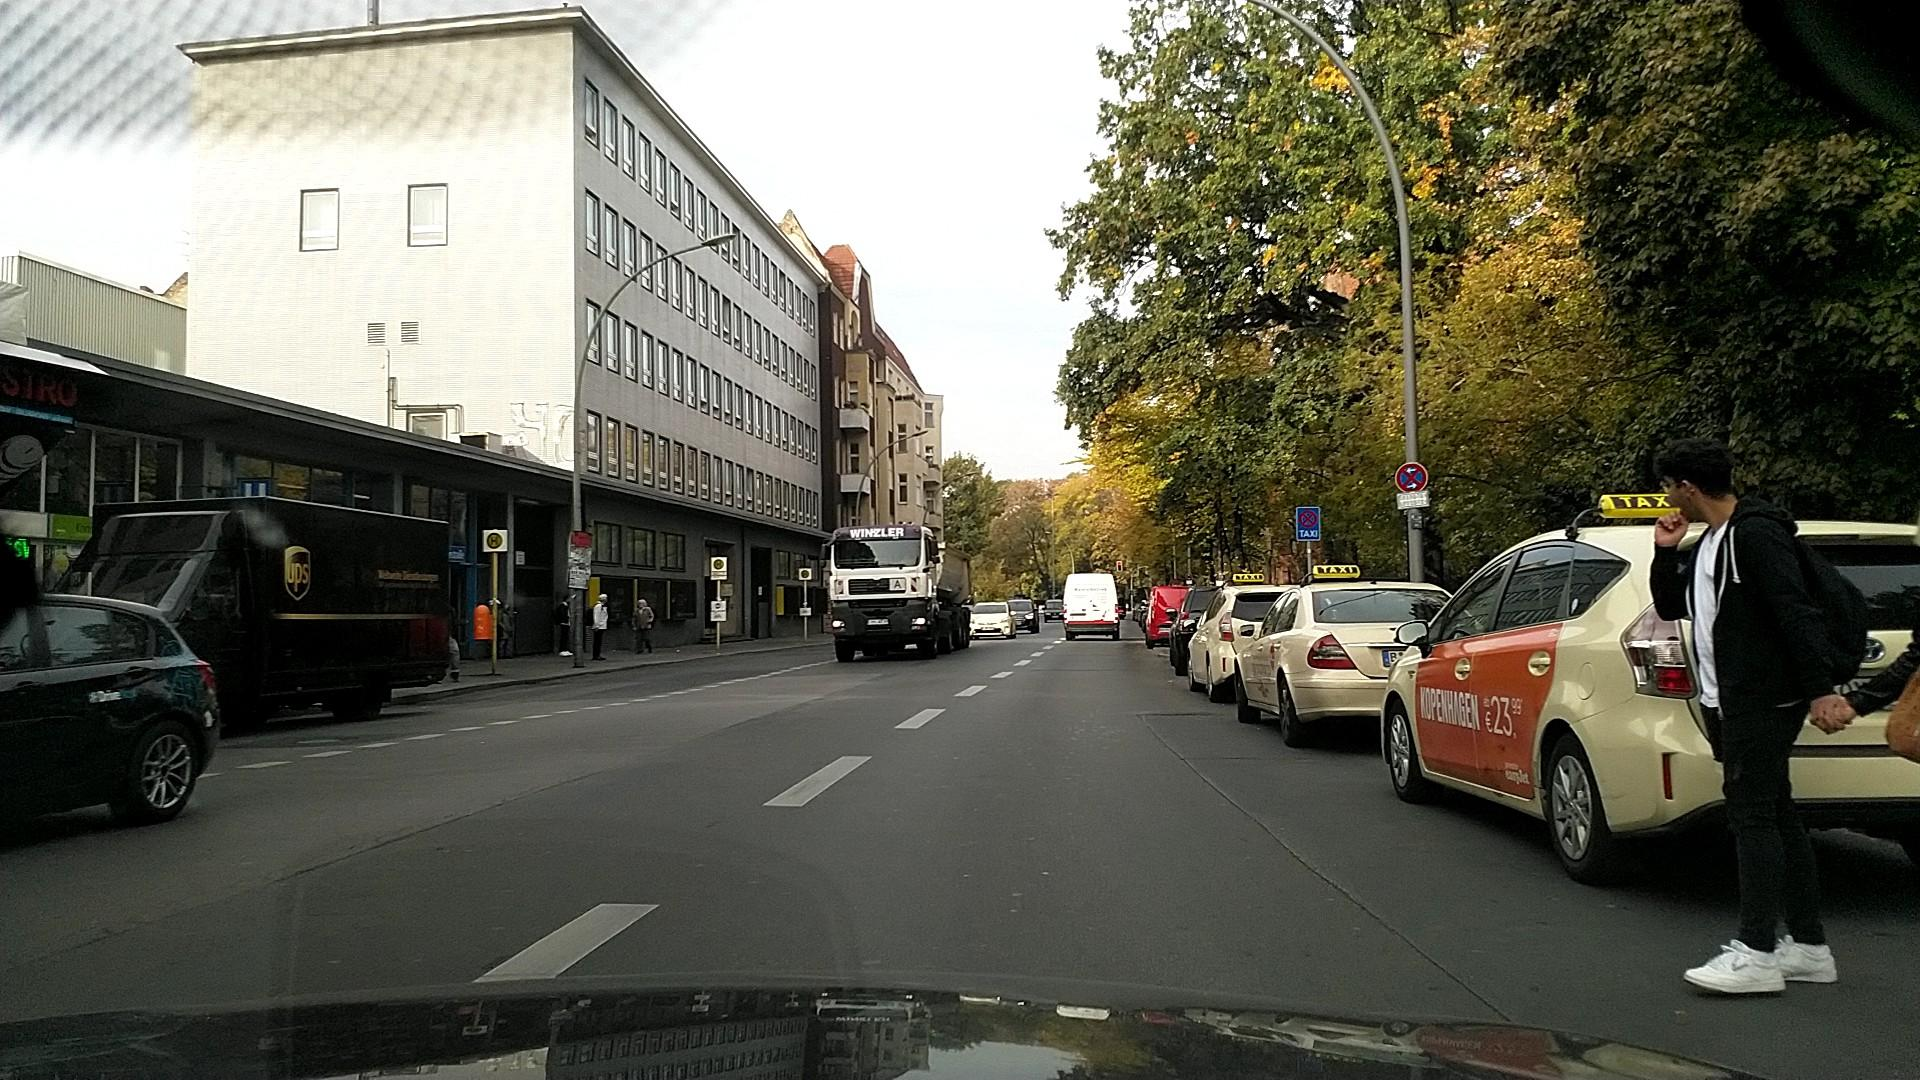Human face: (1656, 457, 1722, 524), (598, 594, 608, 604), (563, 594, 571, 603), (638, 600, 645, 608)
Vehicle registration plate: (866, 618, 889, 624), (981, 626, 994, 630)
